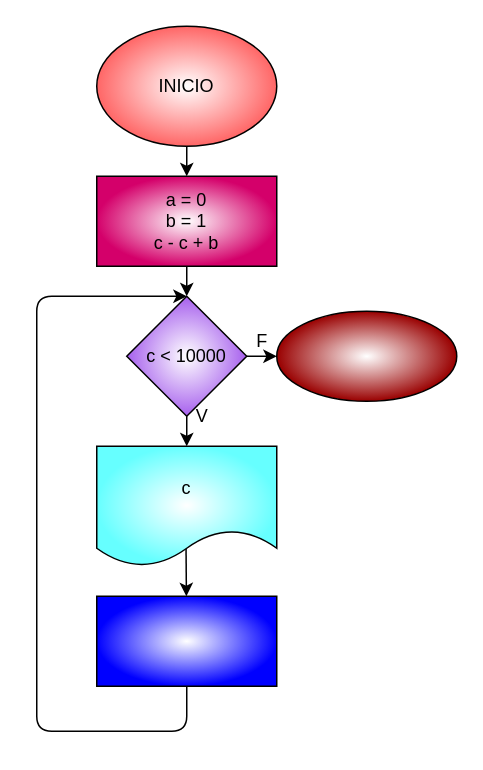
Image size: 483x770. Some labels were removed from this diagram. Each missing label, with the centre of its shape:
"a = b b = c c = a + b" belongs at pixel 186 640.
"FIN" belongs at pixel 366 355.
